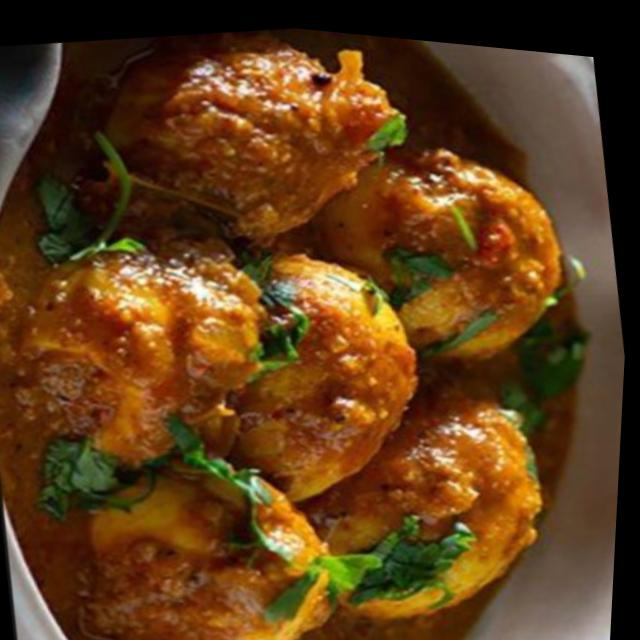EGG: (0, 34, 625, 640)
